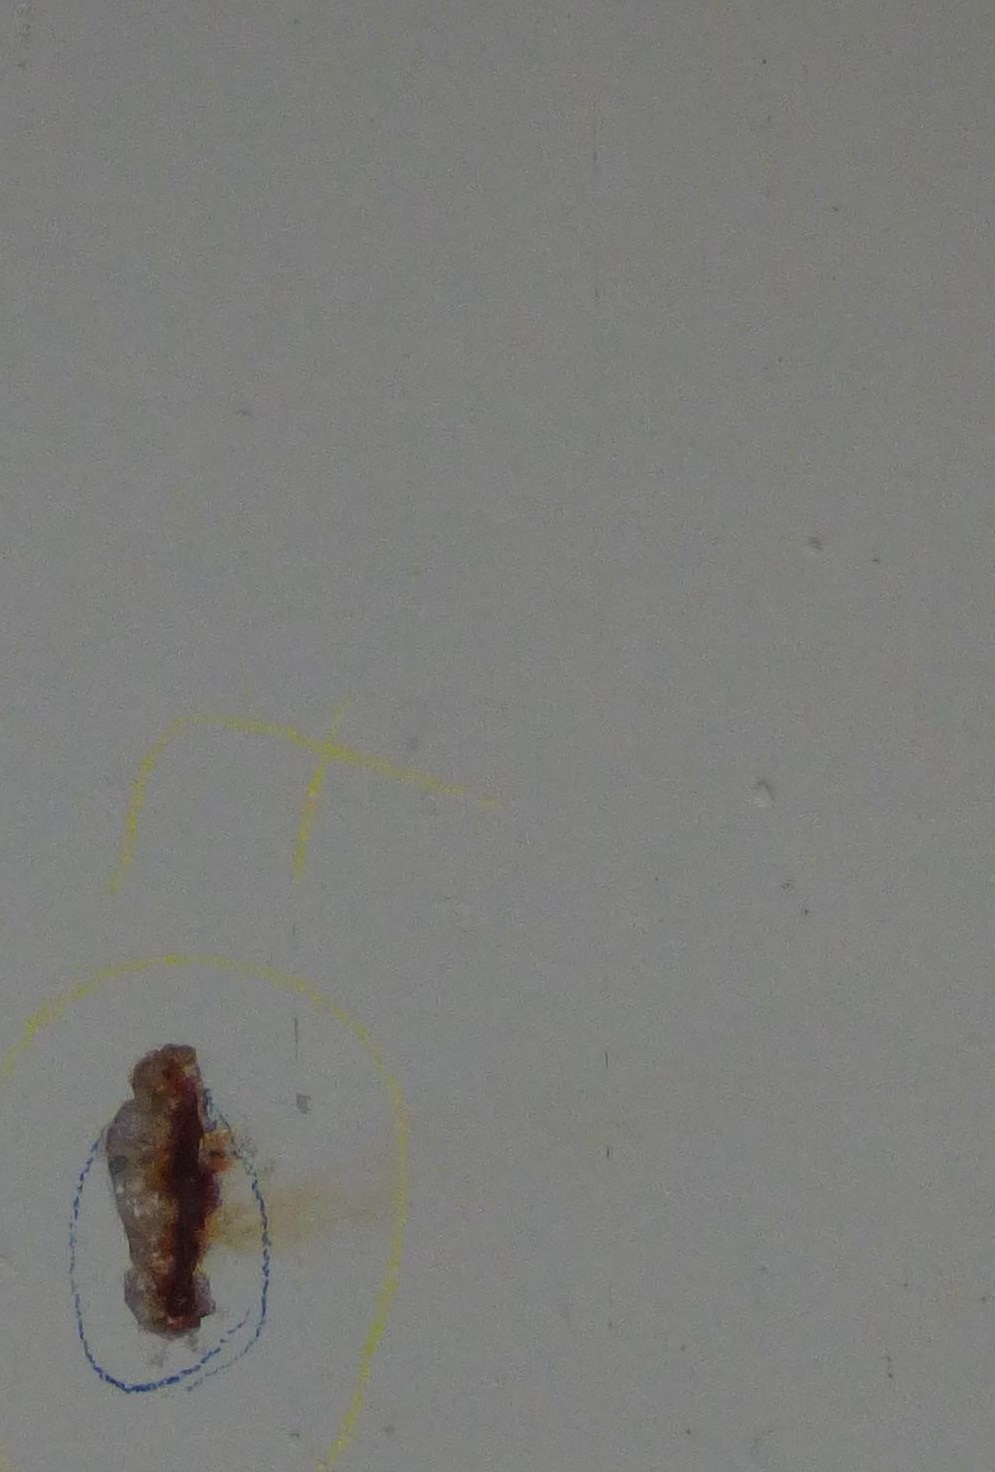Exposed reinforcement: (169, 1091, 200, 1315)
Spalling: (105, 1043, 220, 1341)
